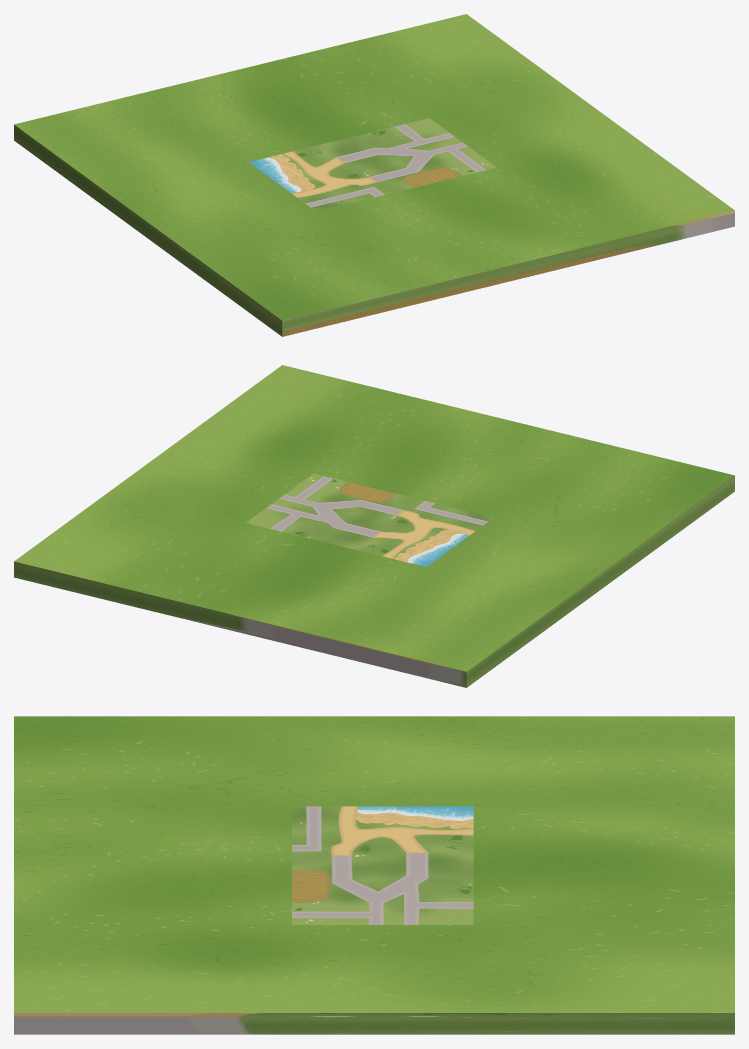
File: ground 4 levelselect.fbx
The picture shows the model from 3 angles, top to bottom: view 1: azimuth 30°, elevation 25°; view 2: azimuth 150°, elevation 25°; view 3: azimuth 270°, elevation 25°; orthographic projection. The views are drawn at different scales.
Parts seen in each view (by area): view 1: Cube.001; view 2: Cube.001; view 3: Cube.001.
Boxes of the visible parts, x1,y1,x2,y2 form: Cube.001: (14, 14, 734, 336); Cube.001: (14, 365, 734, 687); Cube.001: (14, 716, 734, 1034).
Size of the model in its own units: 5884 by 200 by 6043.
